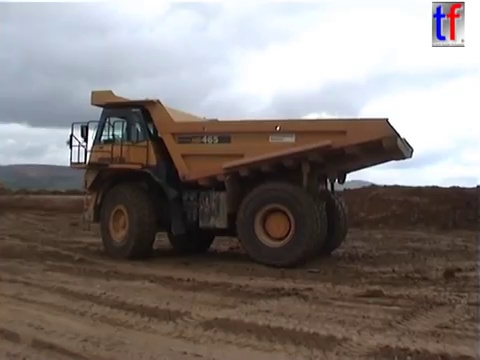truck: (64, 87, 416, 269)
